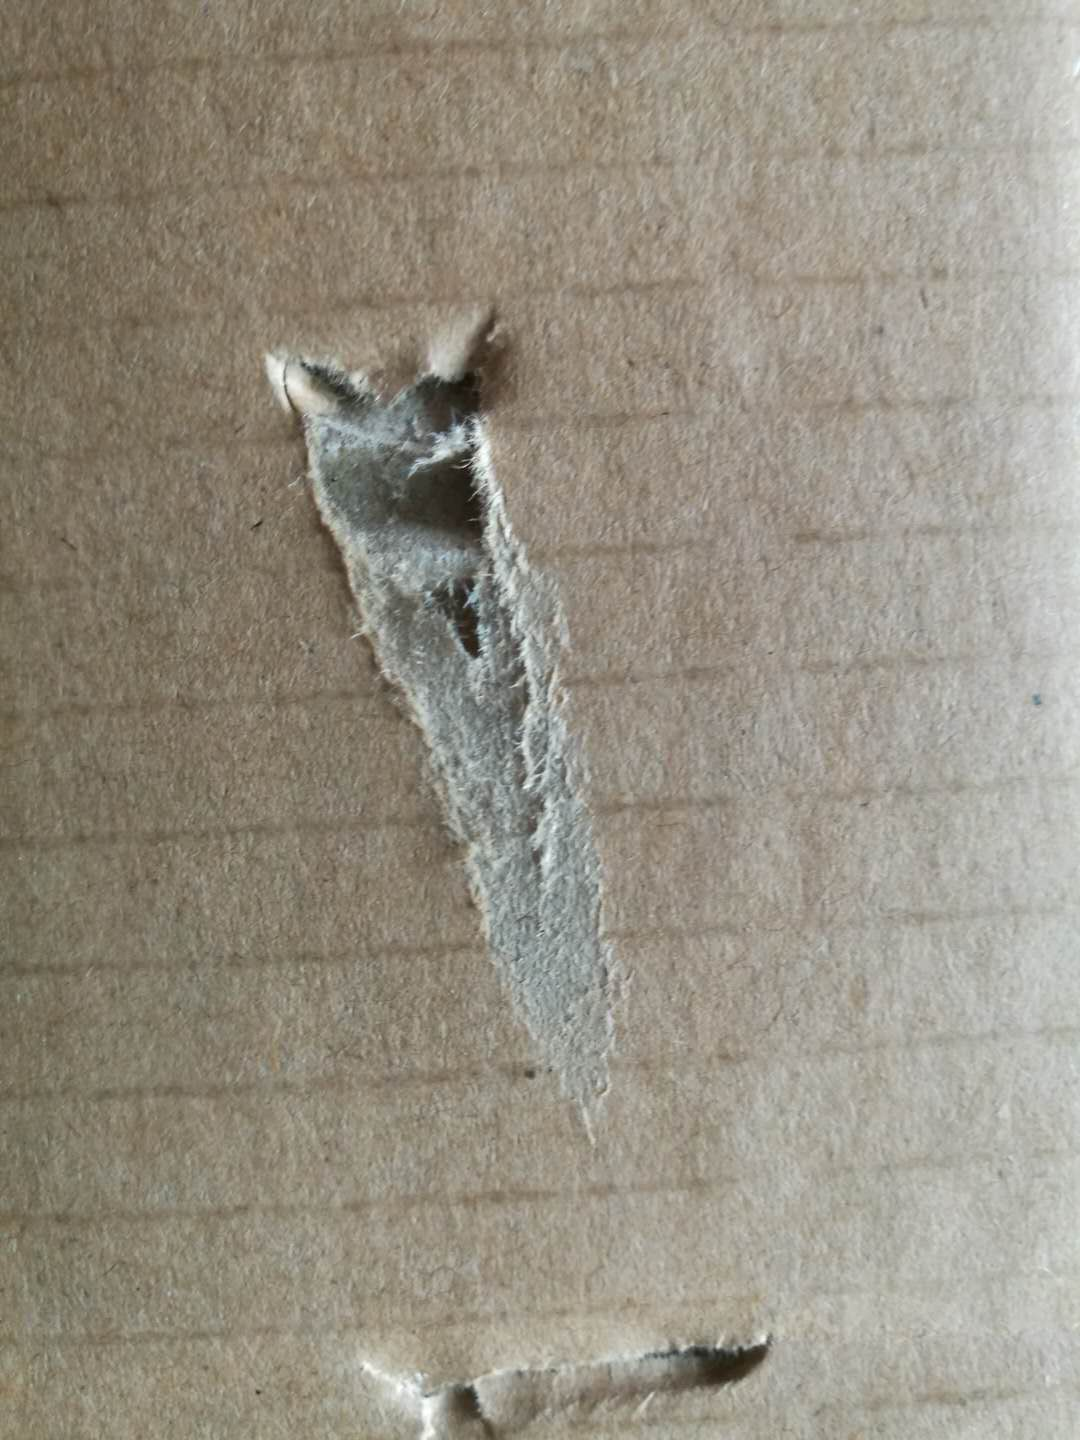defect: (228, 276, 695, 1168), (302, 1287, 811, 1440)
